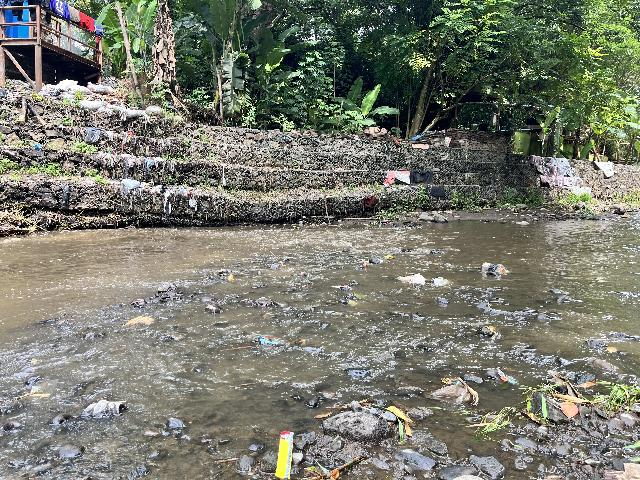Sampah Anorganik: (430, 378, 481, 406), (275, 431, 297, 480), (475, 261, 510, 277), (394, 272, 427, 285), (493, 368, 518, 385), (252, 332, 276, 345), (433, 276, 450, 287), (333, 285, 353, 292), (383, 254, 395, 260), (297, 271, 306, 276)
Sampah Organik: (521, 377, 640, 414), (312, 399, 418, 440), (462, 408, 520, 439), (278, 282, 313, 296), (117, 315, 157, 327), (343, 292, 365, 306), (482, 325, 501, 340), (290, 335, 307, 345), (126, 298, 146, 306), (606, 346, 619, 354), (227, 275, 237, 281), (279, 261, 286, 267), (202, 278, 211, 281), (363, 262, 367, 267)
